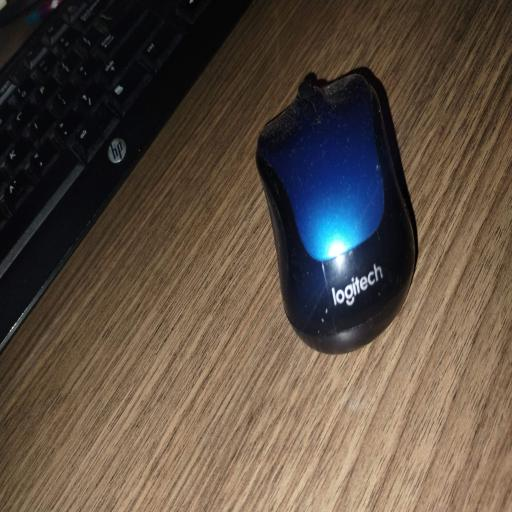mouse: (257, 74, 415, 353)
